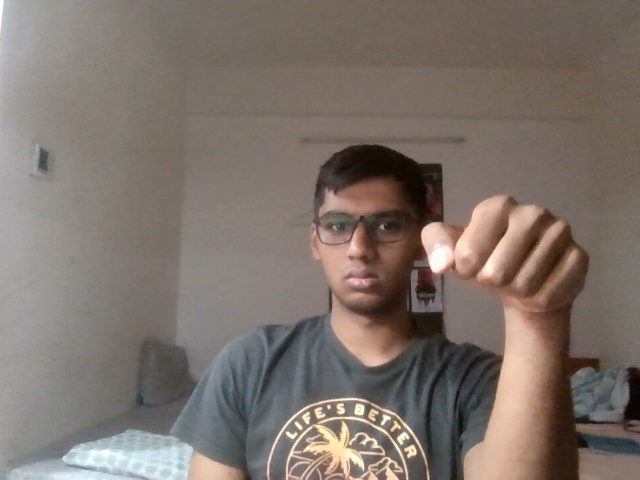yes: (411, 186, 603, 330)
